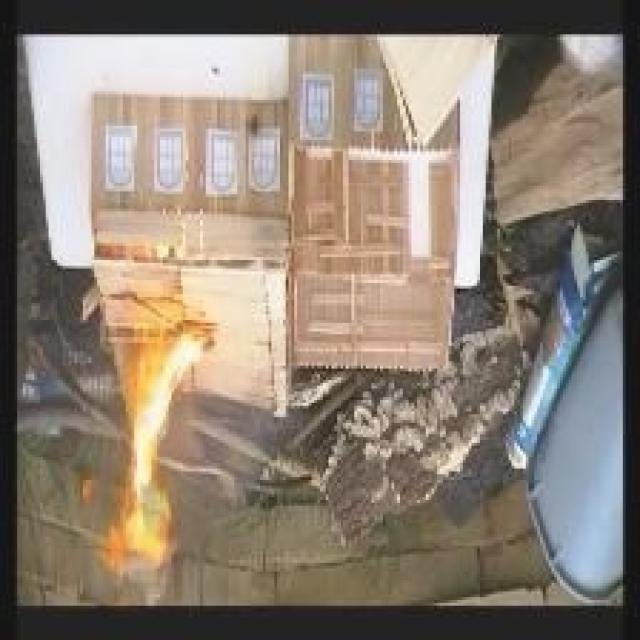fire: (77, 309, 229, 597)
